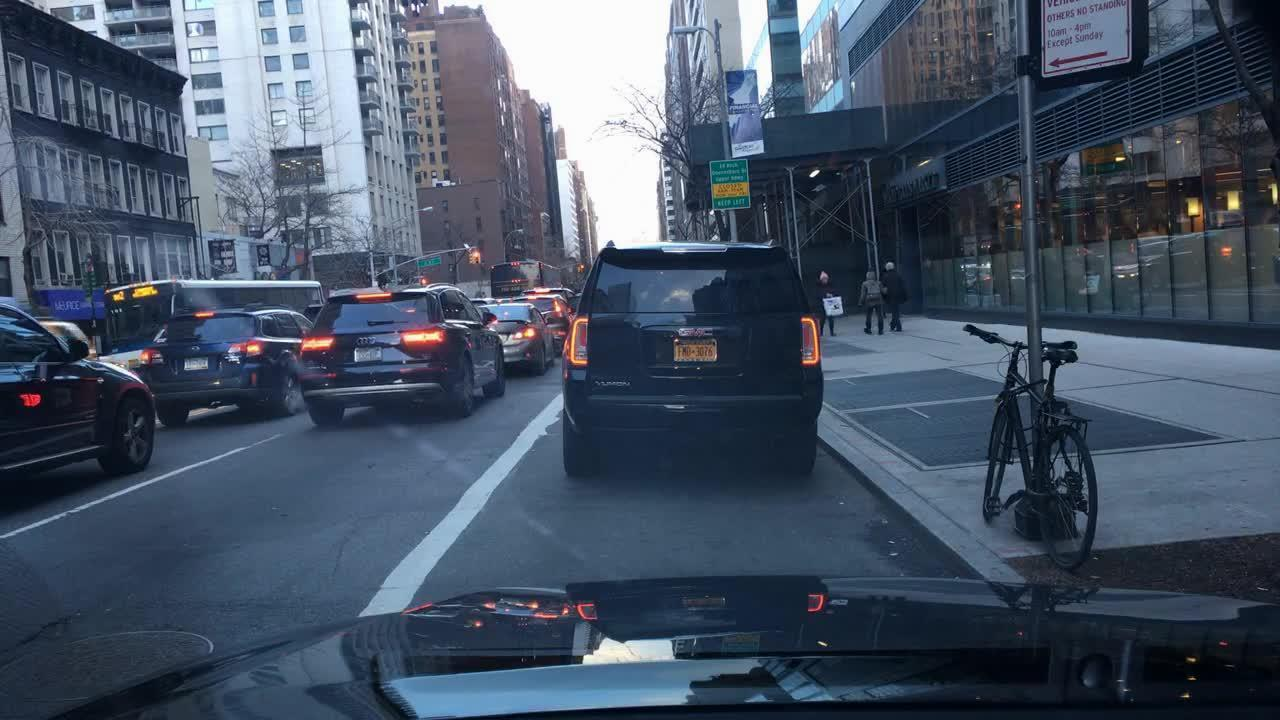Audi: (356, 336, 376, 347)
GMC: (673, 323, 724, 341)
